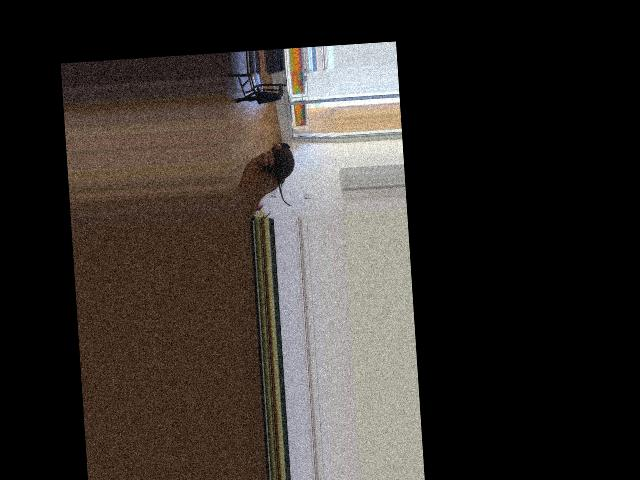beet: (271, 141, 296, 206)
